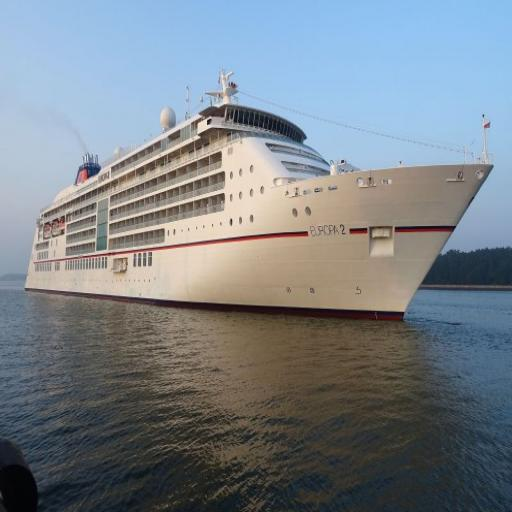cruises: (17, 66, 496, 329)
